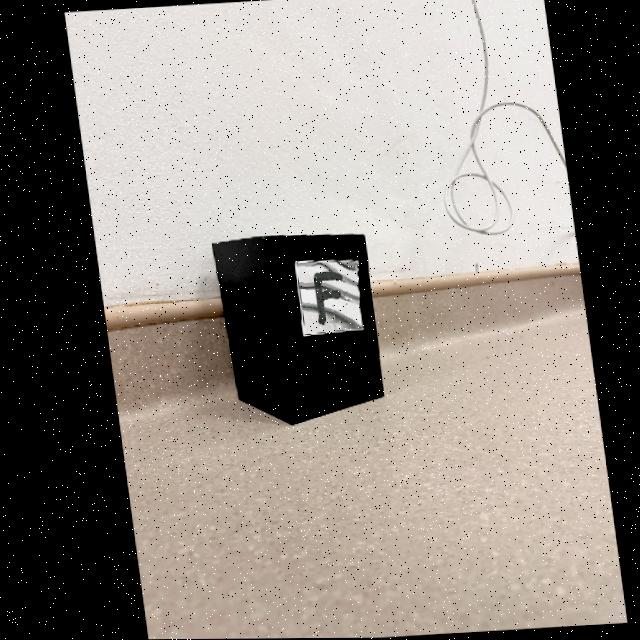F: (310, 272, 339, 325)
